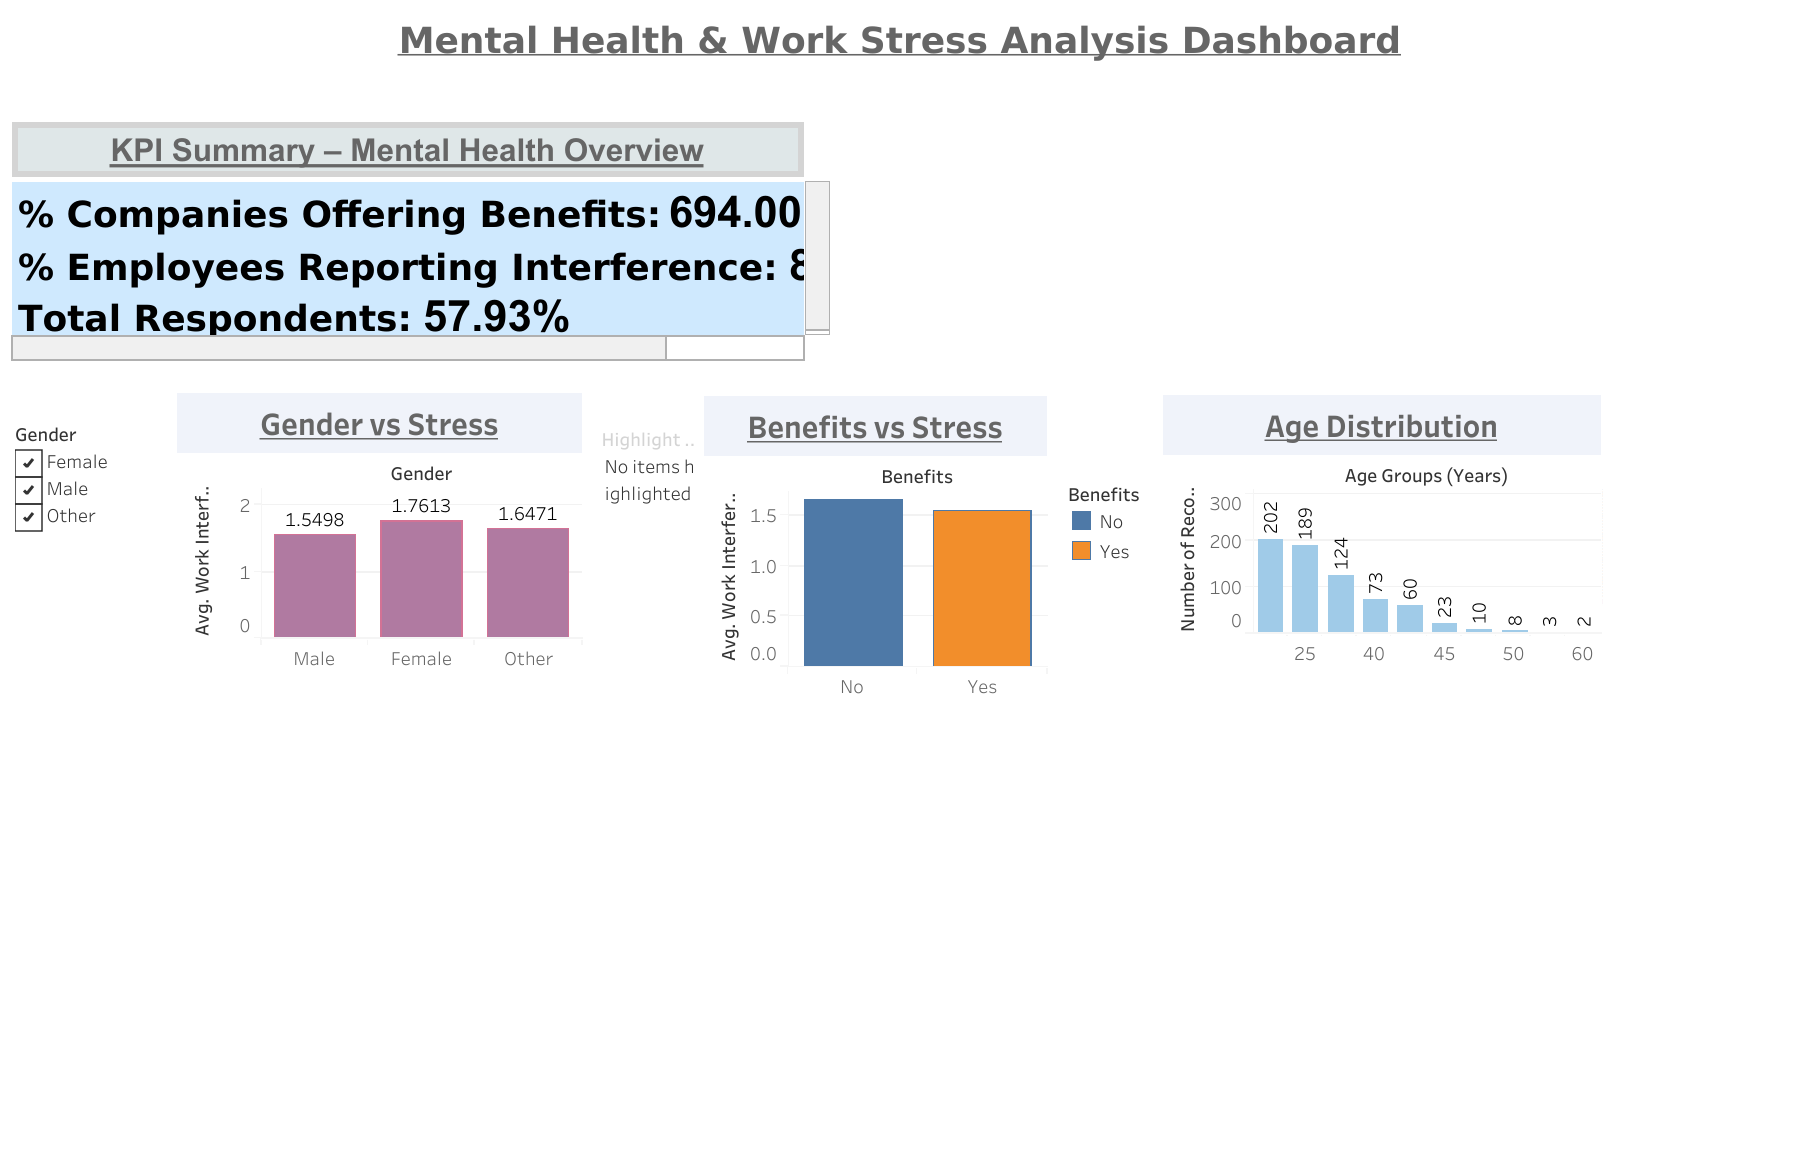

What the dashboard file says about the page in this screenshot:
{"tool":"tableau","page":{"name":"Mental Stress Dashboard","canvas":[1200,768],"ordinal":0},"visuals":[{"type":"title","box":[8,8,1184,37]},{"type":"worksheet","title":"KPI'S","mark":"Text","box":[8,81,546,160]},{"type":"text","box":[752,124,100,30]},{"type":"text","box":[1050,192,100,30]},{"type":"worksheet","title":"Gender vs Stress","mark":"Bar","rows":["work_interfere_score"],"cols":["Gender"],"box":[118,262,270,185]},{"type":"worksheet","title":"Age Distribution","mark":"Automatic","rows":["Calculation_1125965719879795"],"cols":["Age (bin)"],"box":[775,263,292,181]},{"type":"worksheet","title":"Benefits vs Stress","mark":"Bar","rows":["work_interfere_score"],"cols":["benefits"],"box":[469,264,229,202]},{"type":"filter","title":"Gender vs Stress","param":"[federated.05svvtc0cudnt0182aswk0otkcnf].[none:Gender:nk]","box":[10,279,93,127]},{"type":"highlighter","title":"Benefits vs Stress","param":"[federated.05svvtc0cudnt0182aswk0otkcnf].[none:benefits:nk]","box":[401,282,66,65]},{"type":"legend","title":"Benefits vs Stress","param":"[federated.05svvtc0cudnt0182aswk0otkcnf].[none:benefits:nk]","box":[711,318,49,68]}]}

Visuals, with their boxes in screenshot pixels (x1, y1, x2, y2), scaled from the page's 1200x768 canvas onto the 1799x1151 screenshot:
title: 12/12/1787/67
"KPI'S" worksheet (Text marks): 12/121/831/361
text: 1127/186/1277/231
text: 1574/288/1724/333
"Gender vs Stress" worksheet (Bar marks): 177/393/582/670
"Age Distribution" worksheet: 1162/394/1600/665
"Benefits vs Stress" worksheet (Bar marks): 703/396/1046/698
"Gender vs Stress" filter: 15/418/154/608
"Benefits vs Stress" highlighter: 601/423/700/520
"Benefits vs Stress" legend: 1066/477/1139/578
